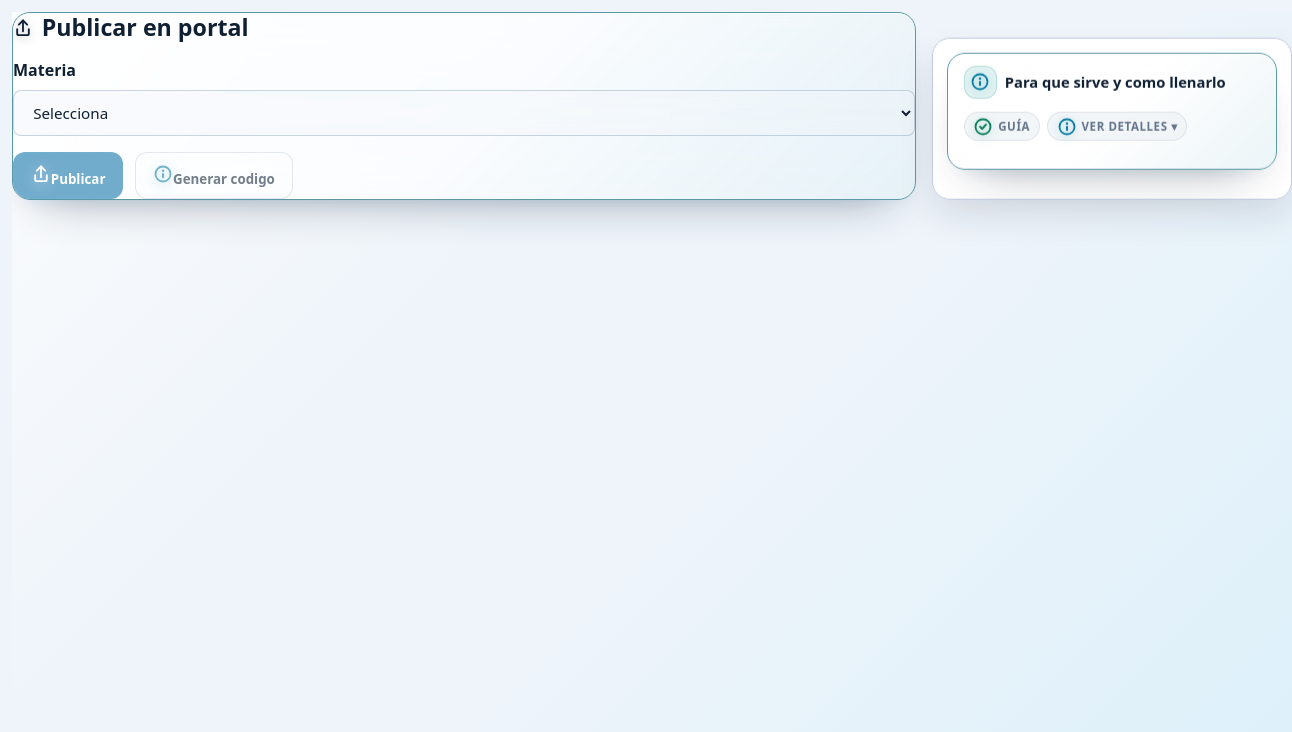
Test: SeccionPublicar › permite generar un código de acceso temporal para el portal alumno
The width and height of the screenshot is (1292, 732).
Select "Física Cuántica (ID: per-1)" in the dropdown labelled "Materia" at (464, 113), box x1=13 y1=90 x2=915 y2=136
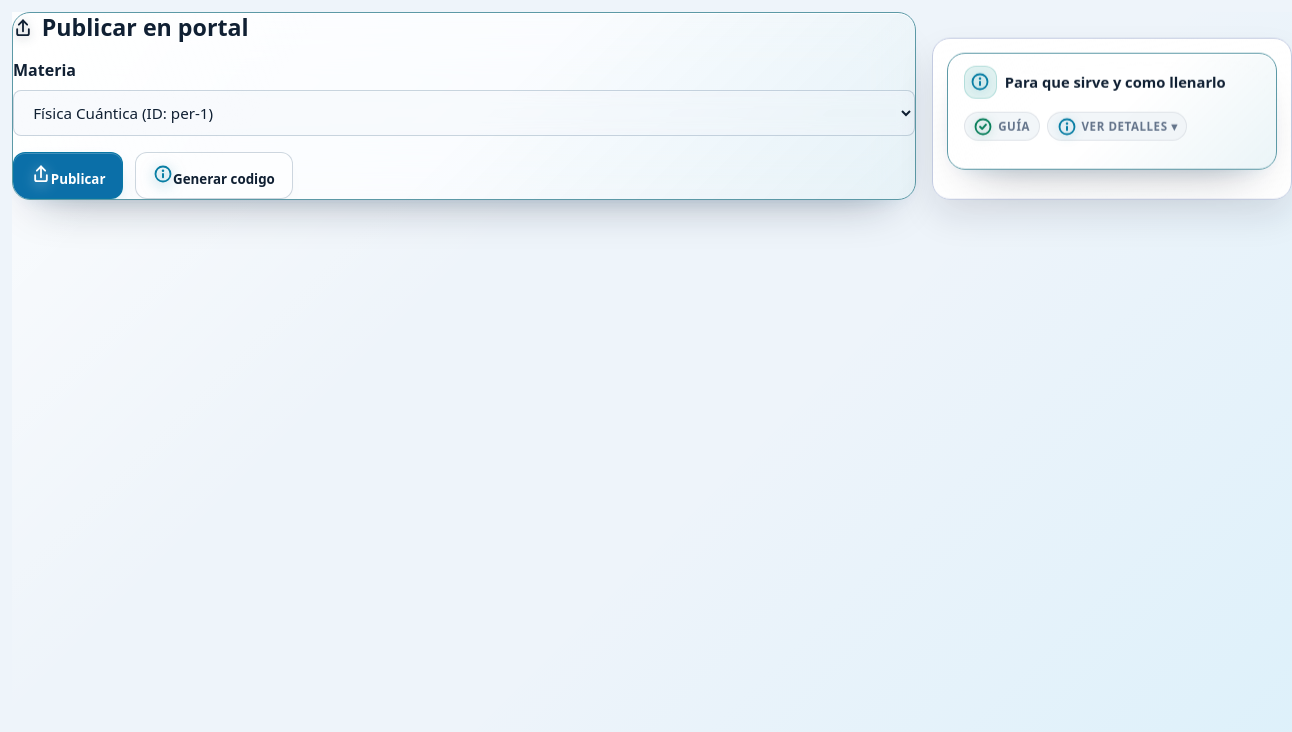
Click the button "Generar codigo".
click(214, 176)  # box x1=135 y1=152 x2=293 y2=199
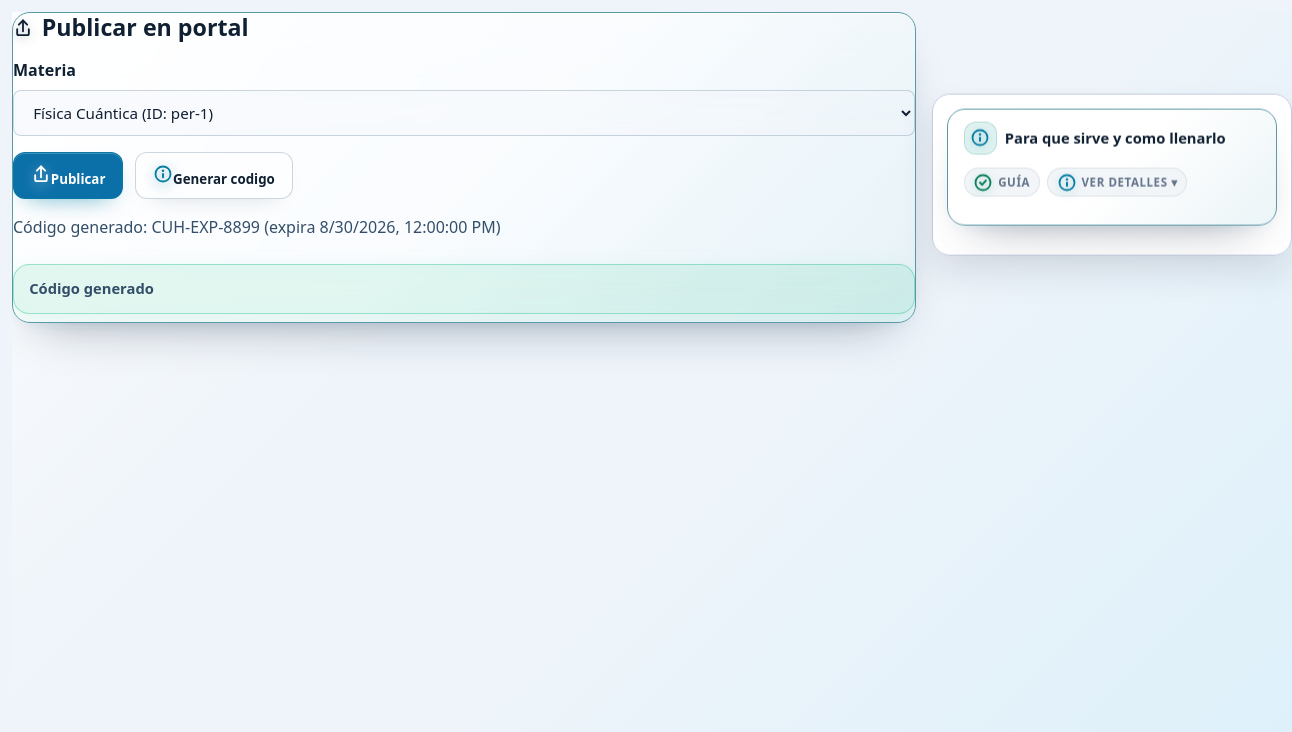
Expected: the text "Código generado: CUH-EXP-8899" is shown, x1=13 y1=216 x2=501 y2=238
